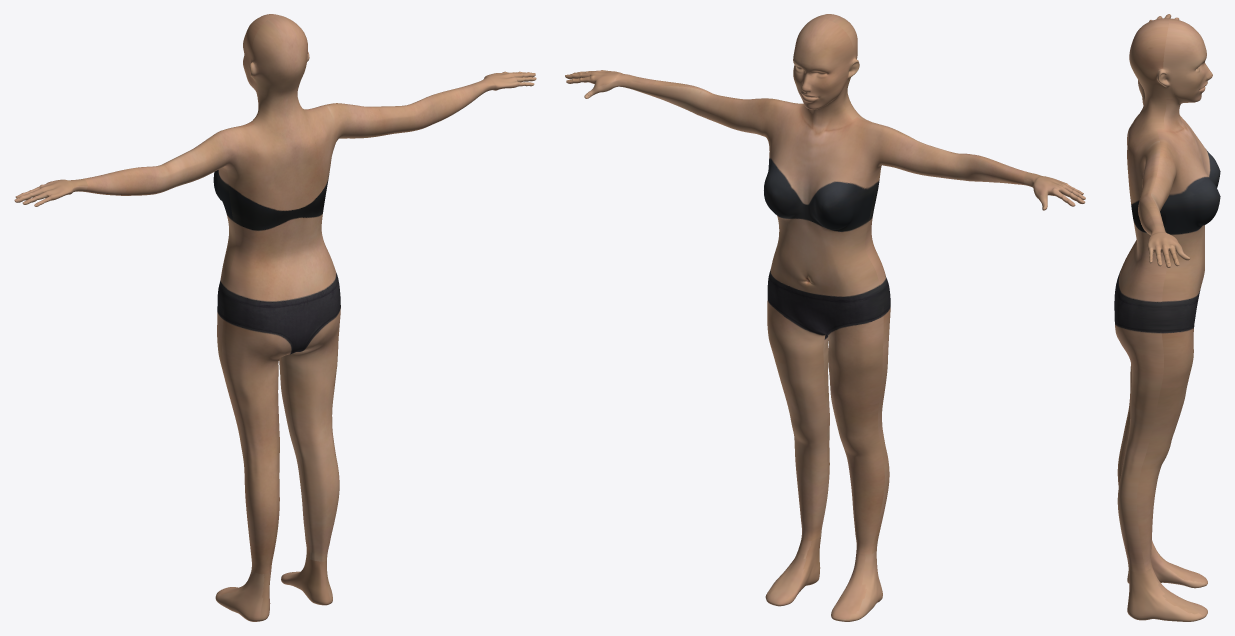
The model's file is size.fbx.
3 renders of one model, left to right at view 1: azimuth 30°, elevation 25°; view 2: azimuth 150°, elevation 25°; view 3: azimuth 270°, elevation 25°, orthographic.
Visible parts, largest first — view 1: body; view 2: body; view 3: body.
Boxes of the visible parts, bbox=[...] form: body: bbox=[14, 14, 536, 621]; body: bbox=[565, 14, 1085, 621]; body: bbox=[1114, 14, 1220, 621].
Bounding box in the file's own units: 1464 × 1568 × 260.
